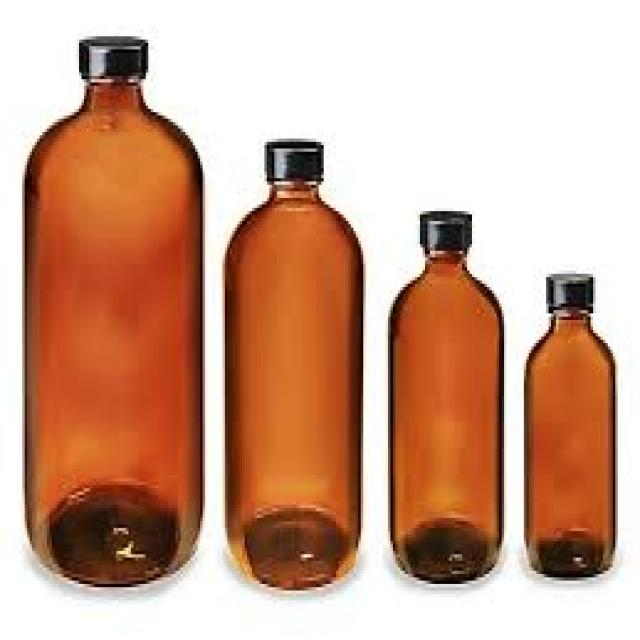glass: (25, 76, 203, 584), (220, 182, 358, 588), (386, 244, 502, 581), (522, 307, 616, 574)
metal: (77, 30, 143, 79), (262, 136, 321, 182), (418, 208, 470, 251), (544, 270, 593, 307)
